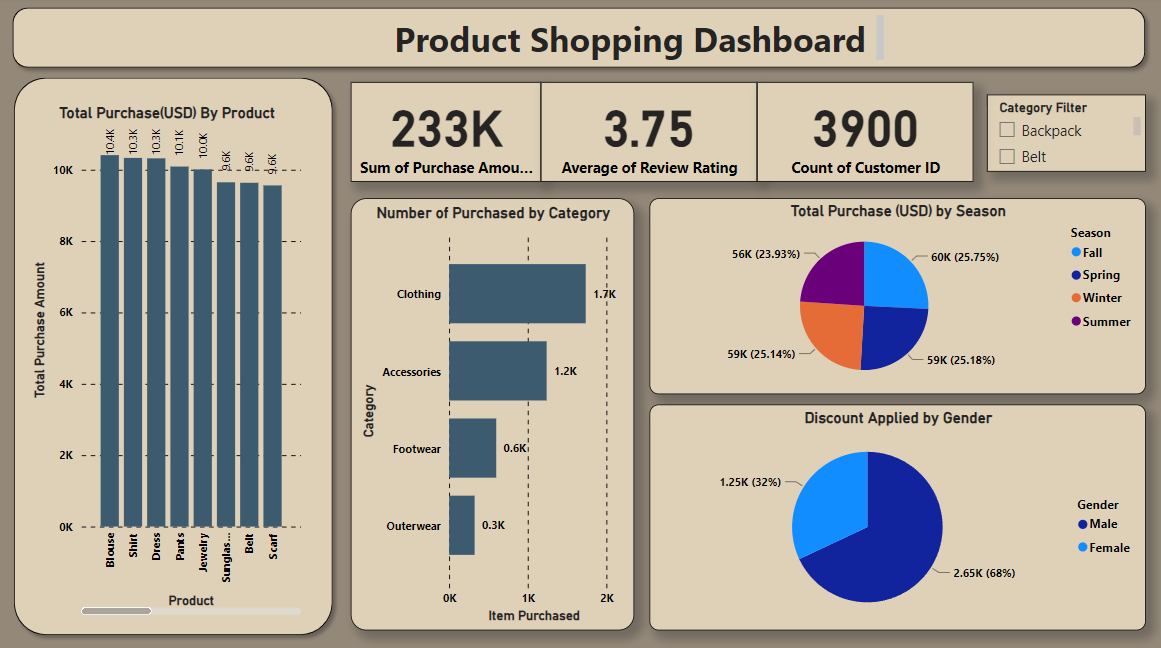

This screenshot's page, from the dashboard's own definition file:
{"tool":"powerbi","page":{"name":"Page 1","canvas":[1280,720],"ordinal":0},"visuals":[{"type":"shape","box":[9.6,79.6,367.8,629.8],"z":1000},{"type":"shape","box":[8.2,2.7,1261.1,83.7],"z":2000},{"type":"clusteredColumnChart","title":"Total Purchase(USD) By Product","fields":{"Y":["Sum(shopping_trends_updated.Purchase Amount (USD))"],"Category":["shopping_trends_updated.Item Purchased"]},"box":[34.3,116.6,304.6,566.7],"z":3000},{"type":"clusteredBarChart","title":"Number of Purchased by Category","fields":{"Category":["shopping_trends_updated.Category"],"Y":["CountNonNull(shopping_trends_updated.Item Purchased)"]},"box":[388.3,220.9,311.5,474.8],"z":4000},{"type":"slicer","fields":{"Values":["shopping_trends_updated.Item Purchased"]},"box":[1086.8,107,174.3,85.1],"z":5000},{"type":"card","fields":{"Values":["Sum(shopping_trends_updated.Purchase Amount (USD))"]},"box":[388.3,93.3,208.6,109.8],"z":6000},{"type":"card","fields":{"Values":["Avg(shopping_trends_updated.Review Rating)"]},"box":[596.9,93.3,237.4,109.8],"z":7000},{"type":"card","fields":{"Values":["CountNonNull(shopping_trends_updated.Customer ID)"]},"box":[834.3,93.3,237.4,109.8],"z":8000},{"type":"textbox","box":[419.9,15.1,558.5,59],"z":9000},{"type":"pieChart","title":"Total Purchase (USD) by Season","fields":{"Y":["Sum(shopping_trends_updated.Purchase Amount (USD))"],"Category":["shopping_trends_updated.Season"]},"box":[716.3,220.9,544.8,215.4],"z":10000},{"type":"pieChart","title":"Discount Applied by Gender","fields":{"Category":["shopping_trends_updated.Gender"],"Y":["CountNonNull(shopping_trends_updated.Discount Applied)"]},"box":[716.3,447.3,544.8,248.4],"z":10001}]}

Visuals, with their boxes in screenshot pixels (x1, y1, x2, y2), scaled from the page's 1280x720 canvas onto the 1161x648 screenshot:
shape: box(9, 72, 342, 638)
shape: box(7, 2, 1151, 78)
"Total Purchase(USD) By Product" clusteredColumnChart: box(31, 105, 307, 615)
"Number of Purchased by Category" clusteredBarChart: box(352, 199, 635, 626)
slicer - shopping_trends_updated.Item Purchased: box(986, 96, 1144, 173)
card - Sum(shopping_trends_updated.Purchase Amount (USD)): box(352, 84, 541, 183)
card - Avg(shopping_trends_updated.Review Rating): box(541, 84, 757, 183)
card - CountNonNull(shopping_trends_updated.Customer ID): box(757, 84, 972, 183)
textbox: box(381, 14, 887, 67)
"Total Purchase (USD) by Season" pieChart: box(650, 199, 1144, 393)
"Discount Applied by Gender" pieChart: box(650, 403, 1144, 626)
